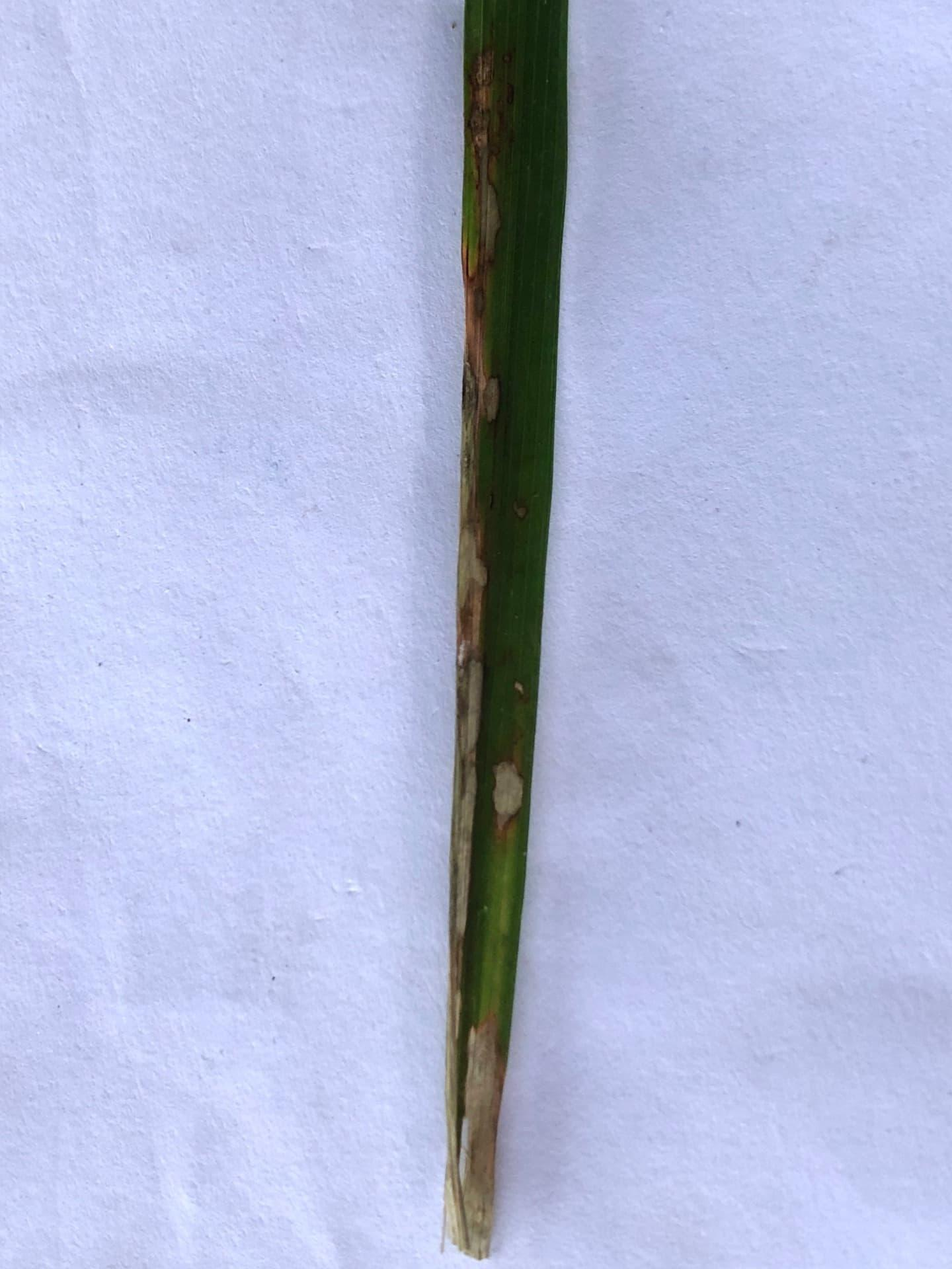Leaf Blight: (447, 47, 503, 1257), (493, 761, 526, 833)
